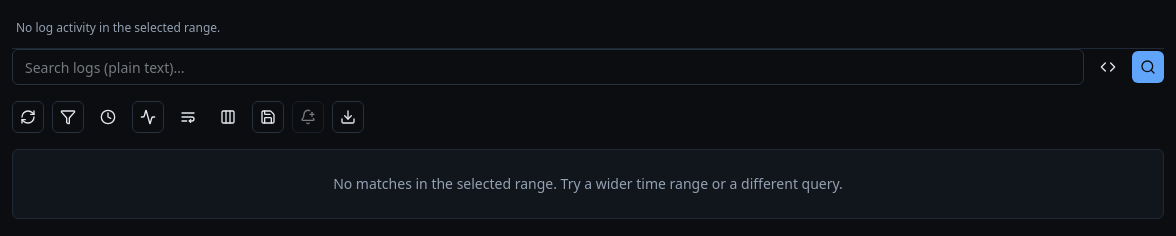
LogsExplorerPage › shows truncated banner when services are truncated
Expected: the field with test id "logs-search-input" is shown, [12,49,1084,85]
// Sidebar is closed by default — open via filter toggle.
Click the button with test id "logs-filter-toggle" at [68, 117], box [52,101,84,133]
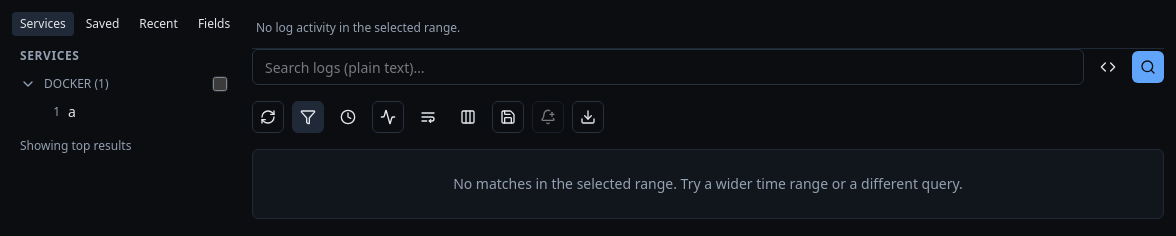
Result: the text "Showing top results" is shown at [20,137,131,154]
